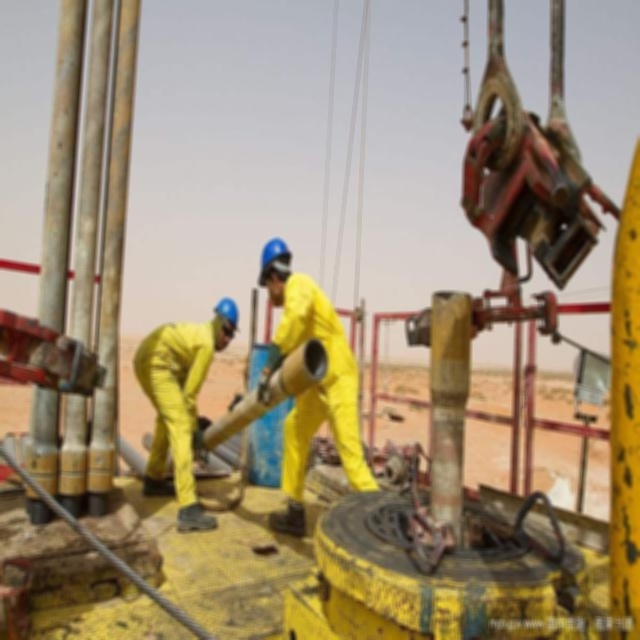Con_Casco: (256, 235, 293, 301)
